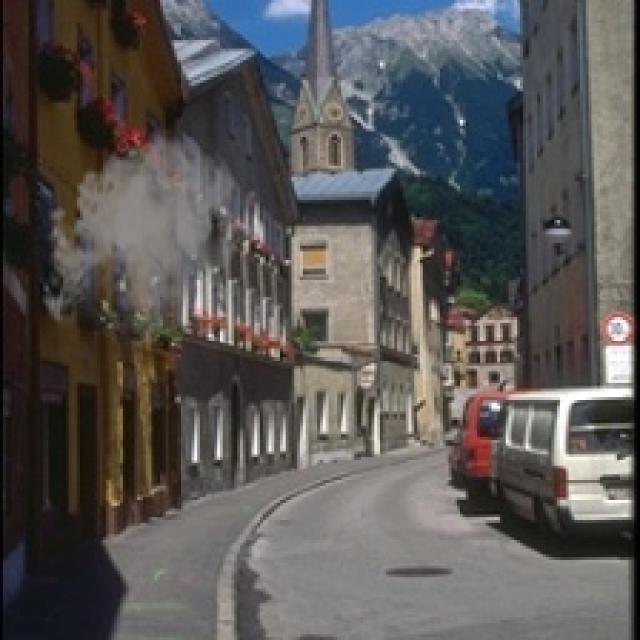Smoke: (37, 126, 257, 354)
